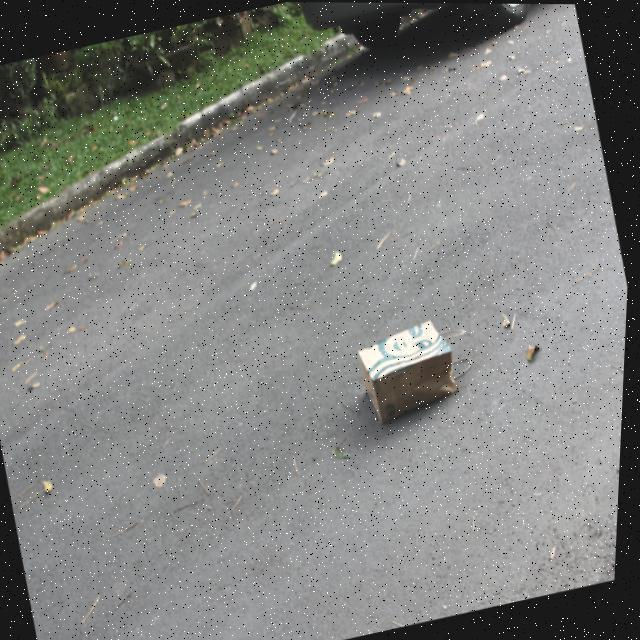Paper_Bag: (358, 313, 487, 424)
